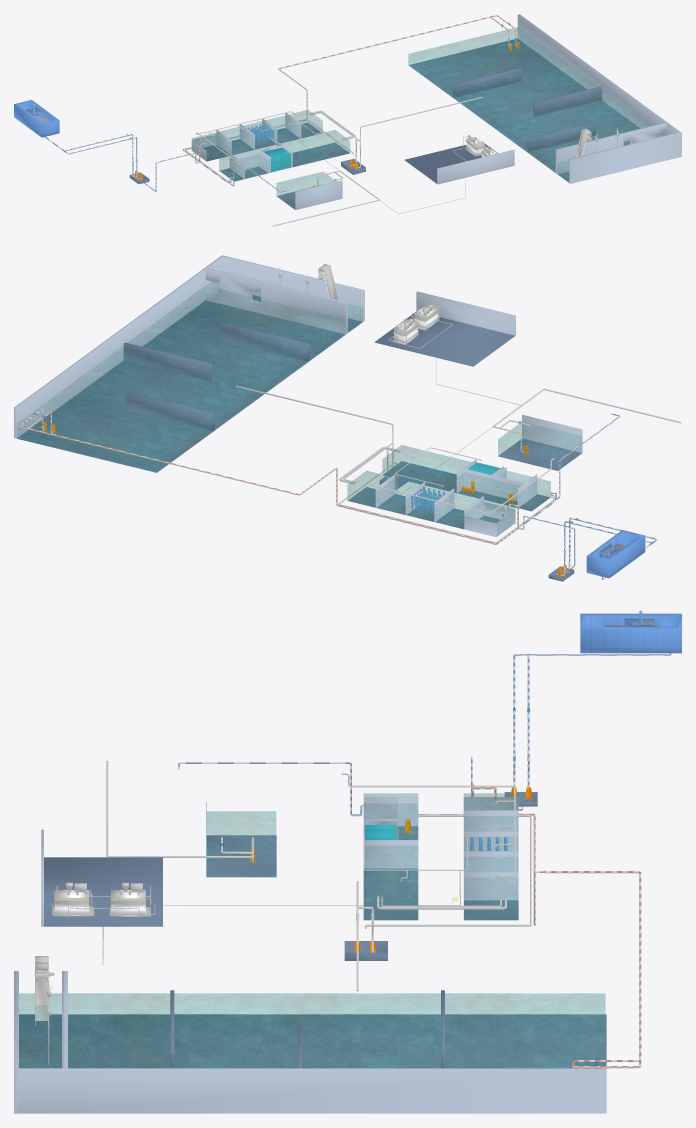
File: CHUIZI02.gltf
3 renders of one model, top to bottom at view 1: azimuth 30°, elevation 25°; view 2: azimuth 150°, elevation 25°; view 3: azimuth 270°, elevation 25°, orthographic. The views are drawn at different scales.
Visible parts, largest first — view 1: Plane026, Box042, duixiang001, Box044, Box043, Box035, Plane027, baazhuoercao, Box039, Box041, Box040, jiayaoguan02 (+7 smaller); view 2: Plane026, Box042, duixiang001, Box035, Box043, Box044, Plane027, Box045, baazhuoercao, Box040, Box039, Box041 (+5 smaller); view 3: Plane026, Box042, duixiang001, Box035, Box043, Box044, Box045, baazhuoercao, Plane027, jiayaoguan02, chushuiguan, jinshui01 (+6 smaller).
Part boxes in pixels (left/top/right/bottom): Plane026: left=408, top=14, right=681, bottom=183; Box042: left=408, top=27, right=664, bottom=181; duixiang001: left=191, top=113, right=349, bottom=181; Box044: left=192, top=110, right=322, bottom=160; Box043: left=219, top=130, right=349, bottom=180; Box035: left=404, top=141, right=514, bottom=184; Plane027: left=276, top=180, right=342, bottom=210; baazhuoercao: left=14, top=100, right=59, bottom=137; Box039: left=533, top=86, right=602, bottom=116; Box041: left=452, top=68, right=521, bottom=97; Box040: left=526, top=122, right=595, bottom=152; jiayaoguan02: left=33, top=46, right=516, bottom=183; Plane026: left=14, top=255, right=364, bottom=472; Box042: left=17, top=282, right=362, bottom=471; duixiang001: left=347, top=459, right=550, bottom=537; Box035: left=374, top=291, right=515, bottom=366; Box043: left=382, top=445, right=550, bottom=510; Box044: left=347, top=471, right=515, bottom=535; Plane027: left=498, top=415, right=582, bottom=470; Box045: left=498, top=422, right=581, bottom=470; baazhuoercao: left=586, top=530, right=645, bottom=578; Box040: left=221, top=322, right=309, bottom=361; Box039: left=123, top=342, right=211, bottom=381; Box041: left=126, top=392, right=214, bottom=430; Plane026: left=14, top=971, right=606, bottom=1113; Box042: left=19, top=993, right=605, bottom=1067; duixiang001: left=363, top=797, right=518, bottom=920; Box035: left=41, top=829, right=162, bottom=926; Box043: left=364, top=793, right=417, bottom=919; Box044: left=464, top=793, right=517, bottom=919; Box045: left=207, top=811, right=275, bottom=876; baazhuoercao: left=580, top=611, right=681, bottom=653; Plane027: left=206, top=802, right=276, bottom=877; jiayaoguan02: left=341, top=610, right=641, bottom=928; chushuiguan: left=178, top=653, right=671, bottom=816; jinshui01: left=471, top=782, right=641, bottom=1068.
Size of the model in its own units: 1060 by 152 by 692.
Materials: 17 (10 with a texture image).
